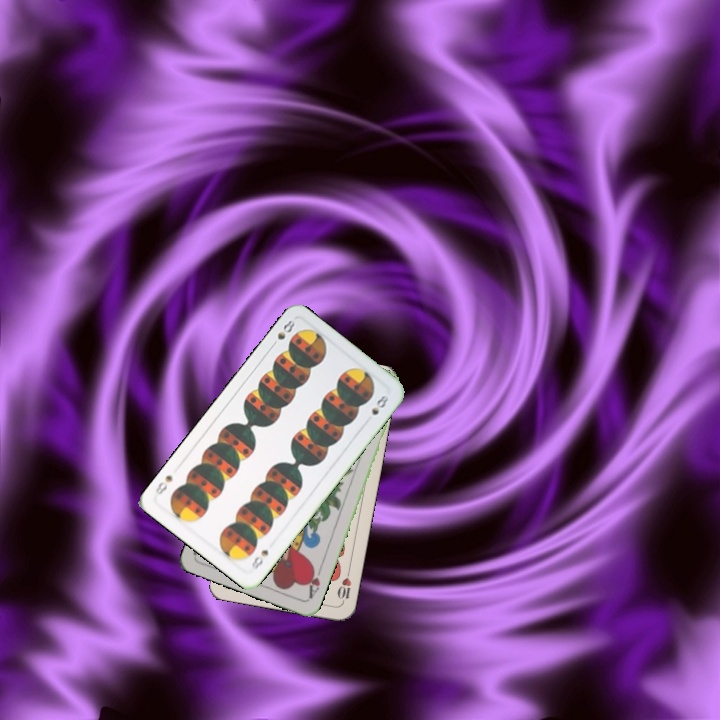H10: (334, 565, 354, 606)
HA: (303, 562, 325, 601)
S8: (267, 316, 298, 351), (247, 545, 271, 572)
